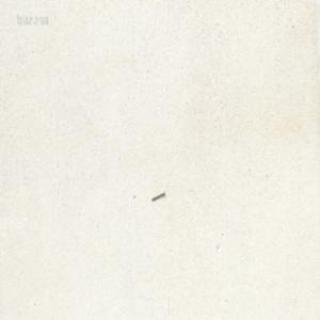Bolttrack_idkeyframe: (150, 188, 164, 200)
